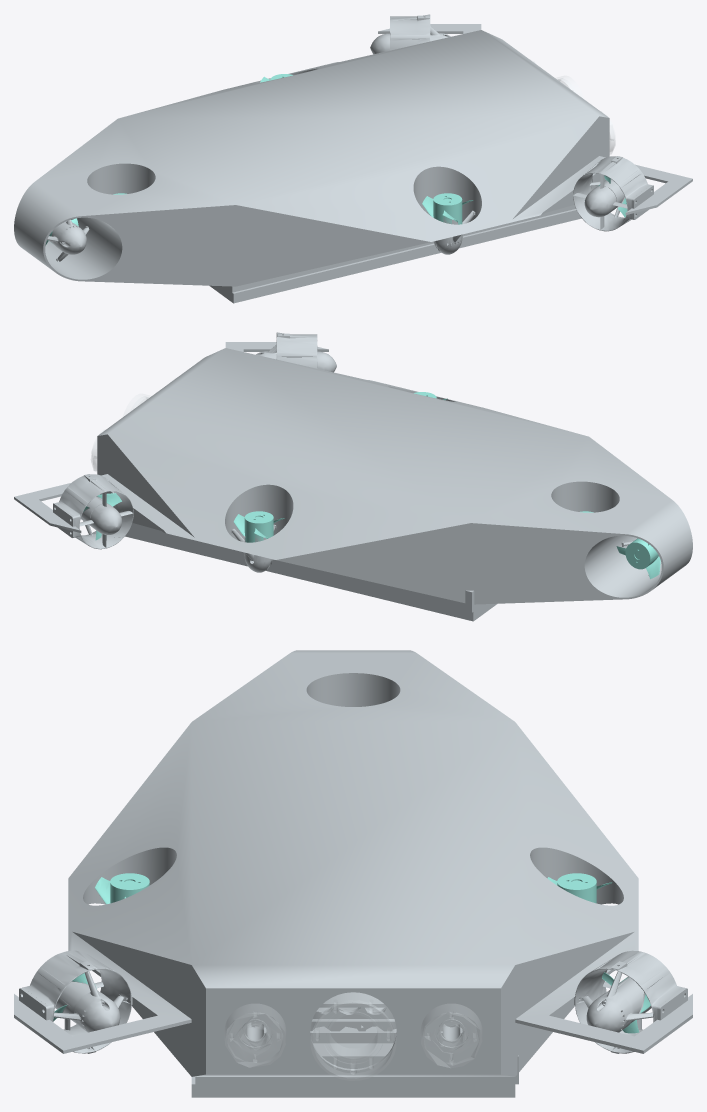
The model's file is rov-v2.glb.
3 views of the same model, one above another, from view 1: azimuth 30°, elevation 25°; view 2: azimuth 150°, elevation 25°; view 3: azimuth 270°, elevation 25° (orthographic). The views are drawn at different scales.
Parts seen in each view (by area): view 1: hull, hardware, thruster_5, thruster_6, thruster_1, prop_4_mesh, thruster_4; view 2: hull, hardware, thruster_6, thruster_5, prop_3_mesh, prop_1_mesh, thruster_3; view 3: hull, hardware, camera, thruster_5, thruster_6, led_1, led_2, prop_4_mesh, prop_3_mesh.
Part boxes in pixels (x1=…): hull: x1=14, y1=24, x2=692, y2=286; hardware: x1=209, y1=205, x2=581, y2=303; thruster_5: x1=573, y1=156, x2=650, y2=231; thruster_6: x1=370, y1=14, x2=450, y2=54; thruster_1: x1=47, y1=220, x2=89, y2=261; prop_4_mesh: x1=422, y1=193, x2=473, y2=224; thruster_4: x1=433, y1=210, x2=475, y2=254; hull: x1=14, y1=342, x2=692, y2=604; hardware: x1=125, y1=523, x2=497, y2=621; thruster_6: x1=56, y1=474, x2=133, y2=549; thruster_5: x1=256, y1=332, x2=336, y2=372; prop_3_mesh: x1=233, y1=511, x2=284, y2=542; prop_1_mesh: x1=616, y1=538, x2=660, y2=579; thruster_3: x1=231, y1=524, x2=276, y2=572; hull: x1=14, y1=650, x2=692, y2=1076; hardware: x1=191, y1=992, x2=518, y2=1097; camera: x1=311, y1=993, x2=395, y2=1080; thruster_5: x1=23, y1=950, x2=132, y2=1053; thruster_6: x1=574, y1=950, x2=683, y2=1053; led_1: x1=421, y1=1004, x2=481, y2=1067; led_2: x1=225, y1=1004, x2=285, y2=1067; prop_4_mesh: x1=95, y1=873, x2=149, y2=904; prop_3_mesh: x1=547, y1=873, x2=612, y2=903.
Bounding box in the file's own units: 1 × 0.1676 × 0.7679.
